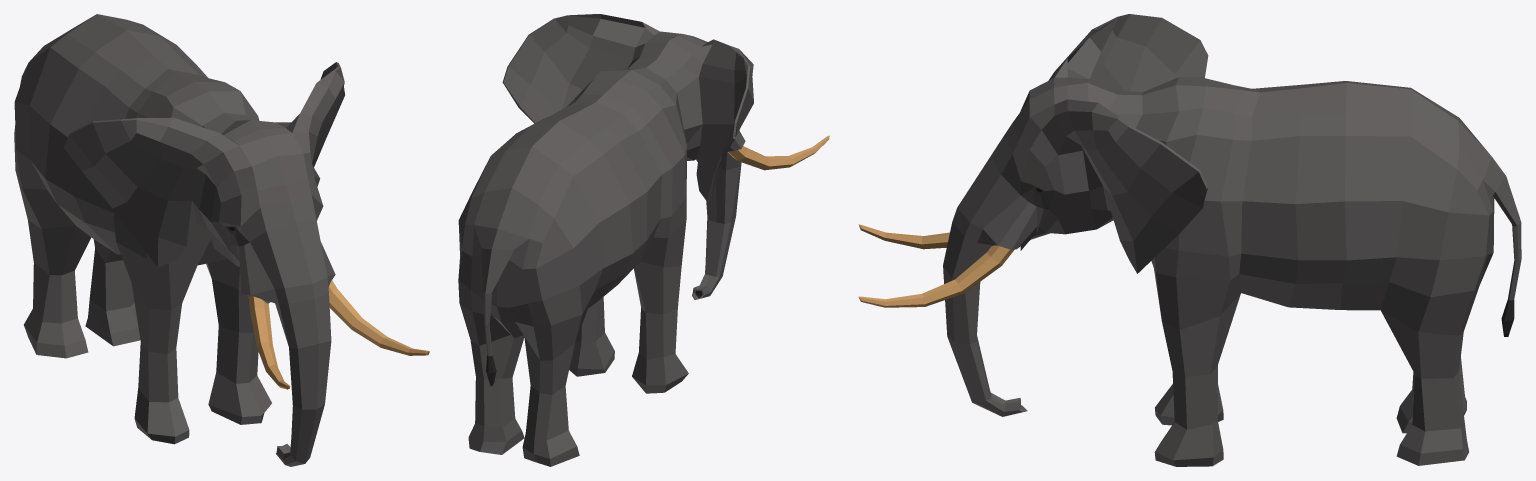
File: animals_elephant.fbx
3 renders of one model, left to right at view 1: azimuth 30°, elevation 25°; view 2: azimuth 150°, elevation 25°; view 3: azimuth 270°, elevation 25°, orthographic. The views are drawn at different scales.
Visible parts, largest first — view 1: animals_elephant; view 2: animals_elephant; view 3: animals_elephant.
Part boxes in pixels (x1,y1,x2,y2): animals_elephant: (14,14,429,466); animals_elephant: (458,14,829,466); animals_elephant: (858,14,1521,466).
Size of the model in its own units: 95.43 by 124 by 200.
